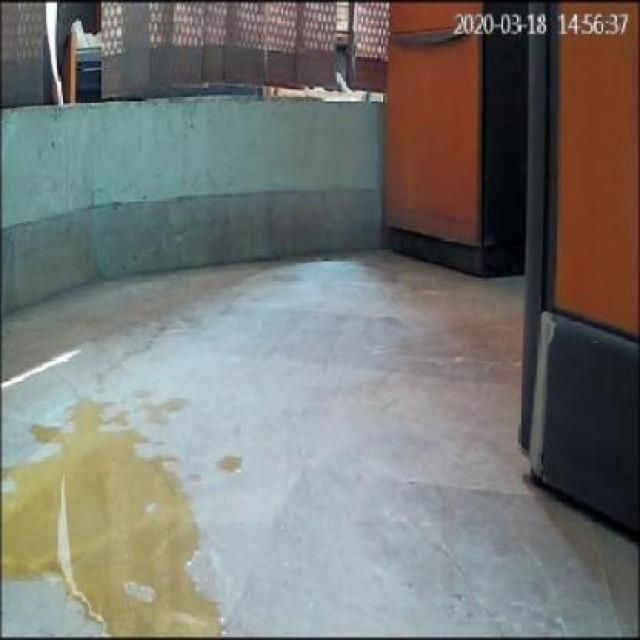spillage: (2, 402, 220, 638), (218, 456, 242, 474)
